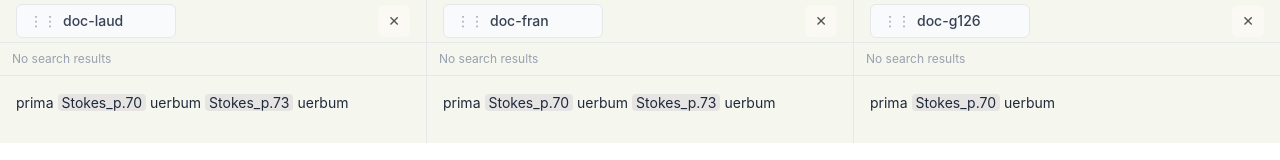
Scenario: Page Jump (#198) › notices (#199) › ✕ dismisses a notice
Click the 1st button "Stokes_p.73".
click(249, 102)  # box [205, 94, 293, 111]
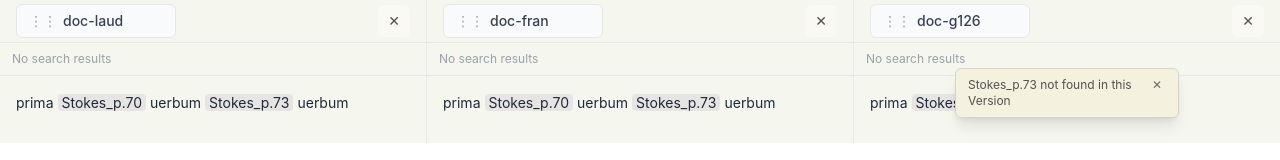
Click the button named "Dismiss Page Jump notice".
click(1157, 85)  # box [1148, 77, 1166, 93]
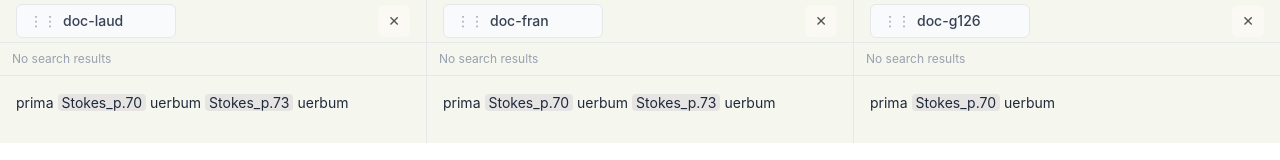
Check: the message "Stokes_p.73 not found in this Version ✕" is gone
